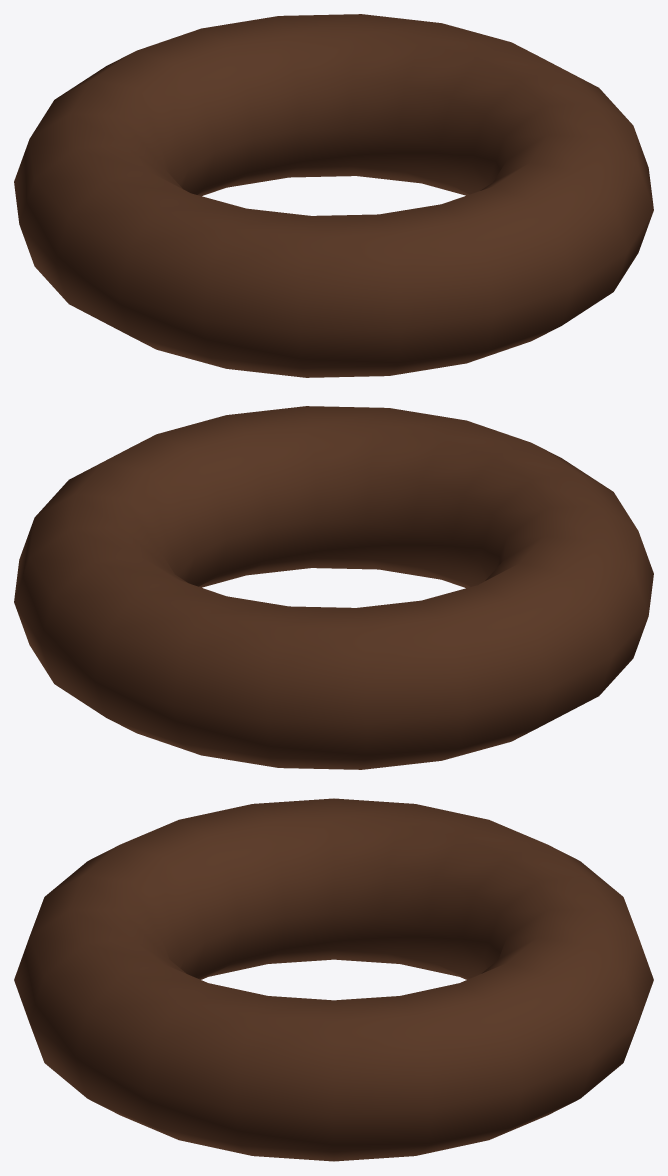
File: b7a36e5a-f290-41c4-98b5-763a66cafa5f.glb
3 views of the same model, one above another, from view 1: azimuth 30°, elevation 25°; view 2: azimuth 150°, elevation 25°; view 3: azimuth 270°, elevation 25° (orthographic).
Parts seen in each view (by area): view 1: BaseToroids.010; view 2: BaseToroids.010; view 3: BaseToroids.010.
Part boxes in pixels (box(x1,y1,x2,y2)): BaseToroids.010: box(14, 14, 653, 377); BaseToroids.010: box(14, 406, 653, 769); BaseToroids.010: box(14, 798, 653, 1161).
Size of what is drawn, in the model's own units: 0.9438 by 0.2278 by 0.9438.
Materials: 1 (1 with a texture image).
